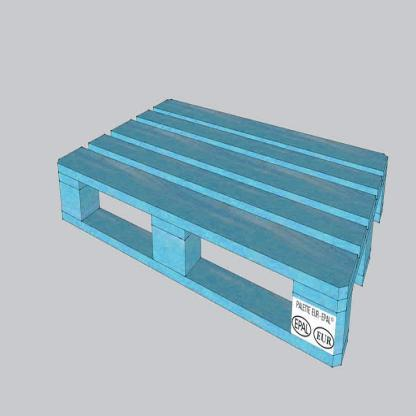pallet: (58, 100, 388, 368)
